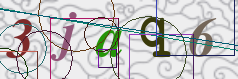3: (4, 14, 35, 60)
6: (186, 14, 218, 58)
a: (93, 22, 124, 64)
j: (45, 10, 83, 65)
q: (135, 12, 175, 61)
